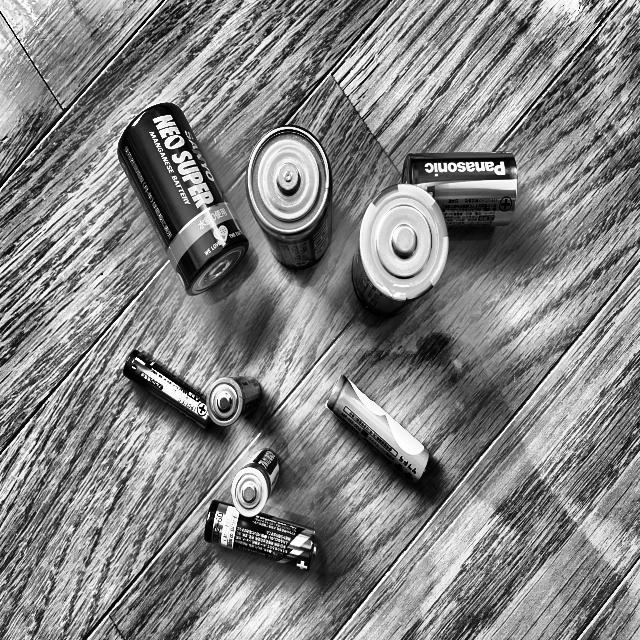drycell: (198, 494, 320, 580), (120, 346, 218, 434)
